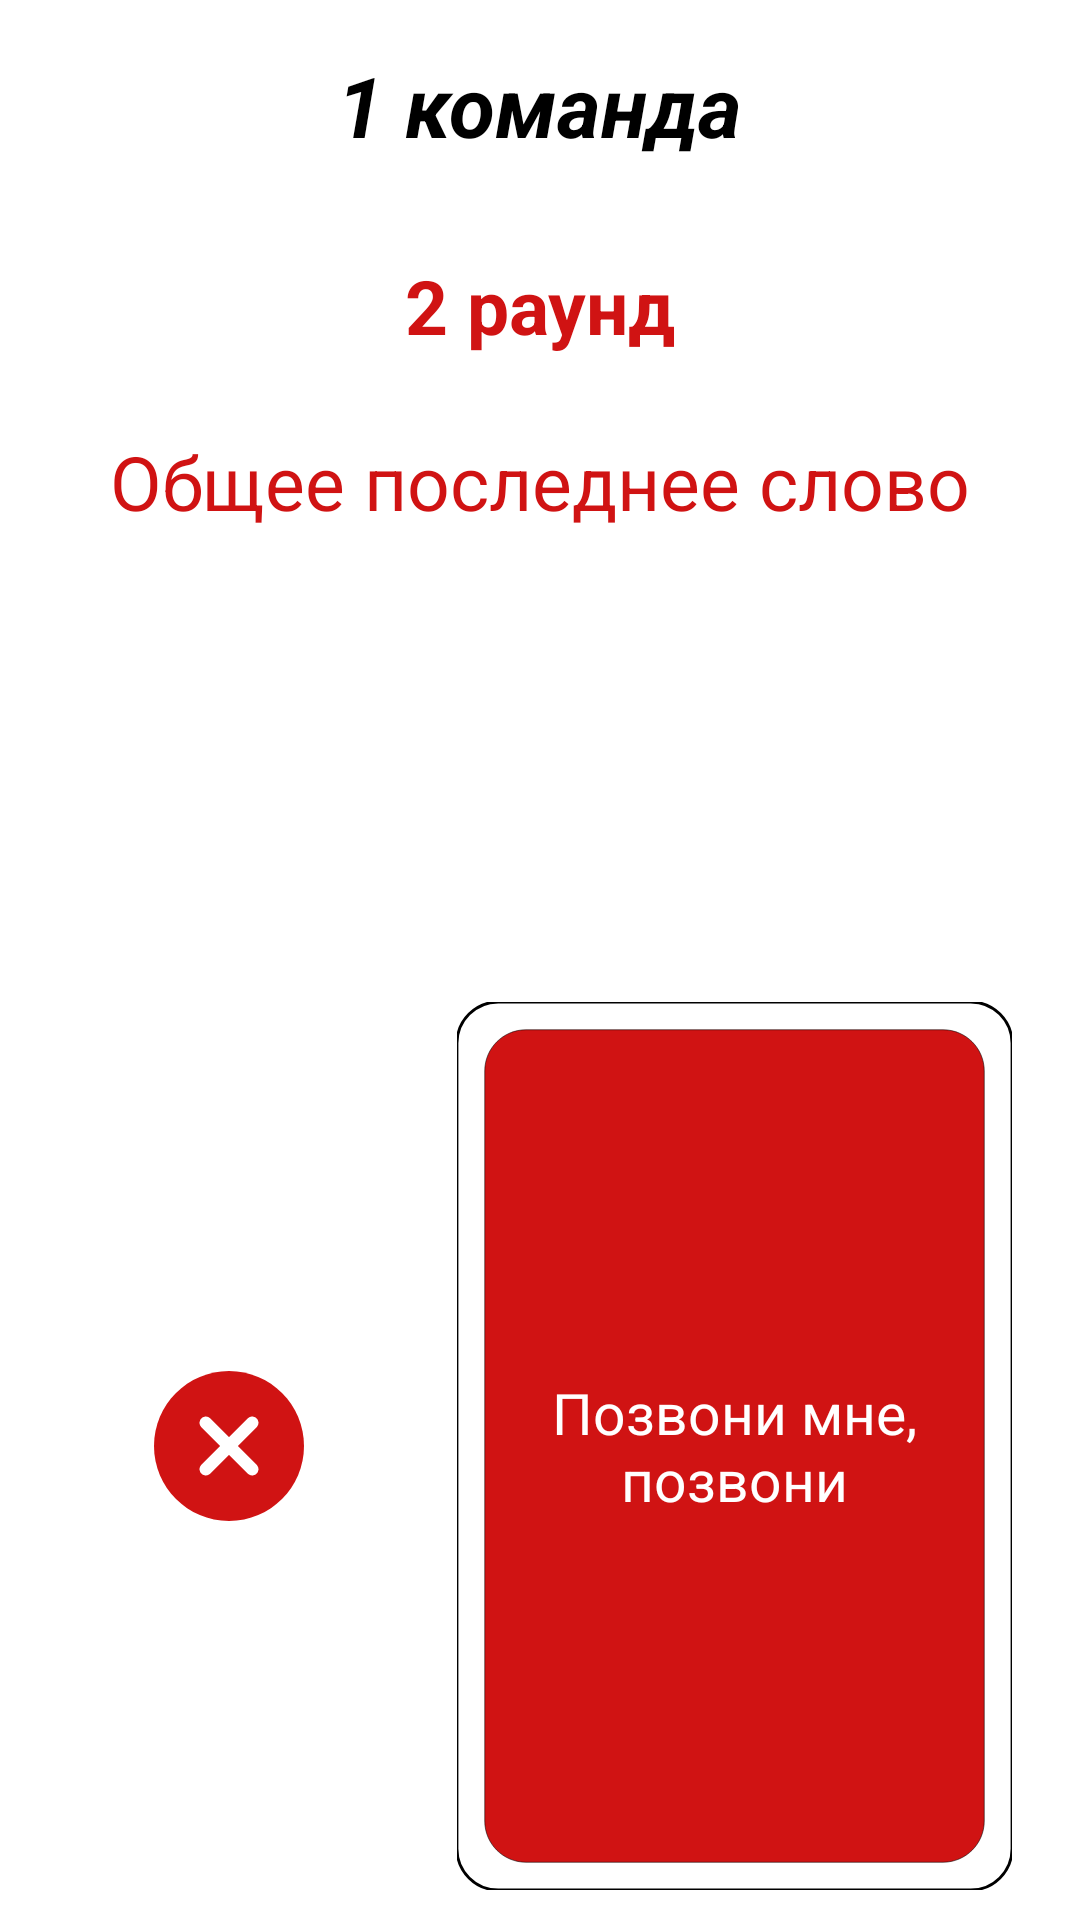

Named icons in this screenshot (1080px x 1920px) and their bounding boxes, (x1, y1, x2, y2):
cross: (154, 1371, 304, 1521)
